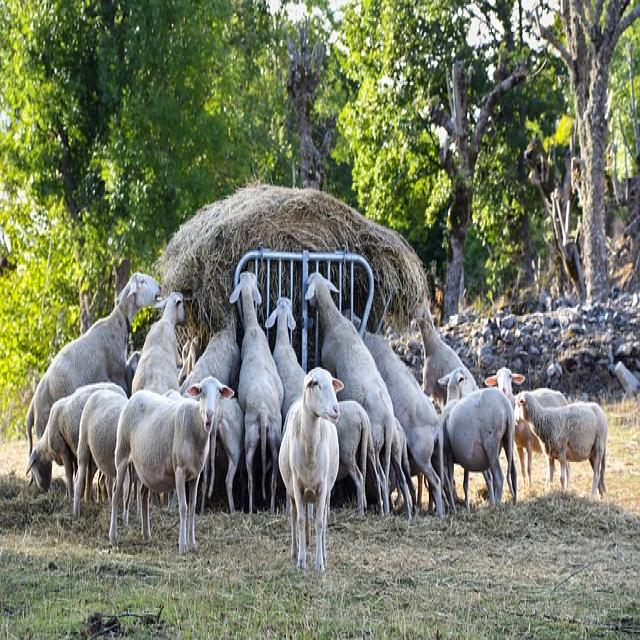sheep: (24, 270, 161, 465), (108, 374, 234, 553), (304, 271, 395, 517), (342, 308, 445, 515), (277, 366, 344, 572), (229, 269, 284, 515), (25, 380, 127, 504), (178, 324, 243, 513), (130, 291, 186, 508), (437, 366, 517, 512), (514, 390, 607, 500), (484, 366, 567, 488), (72, 388, 135, 525), (412, 300, 478, 409), (130, 290, 186, 395)
